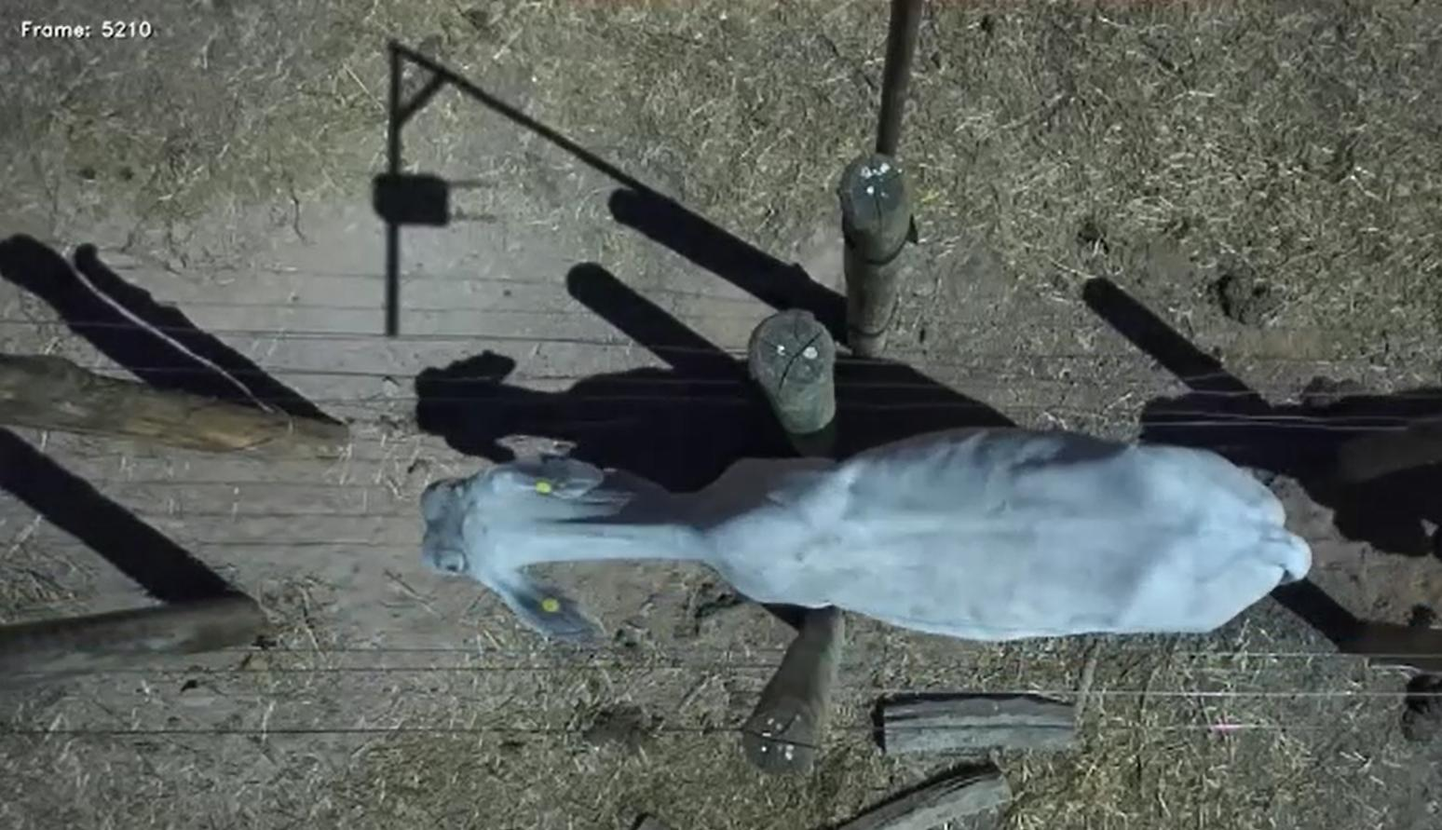cattle: (417, 422, 1313, 664)
